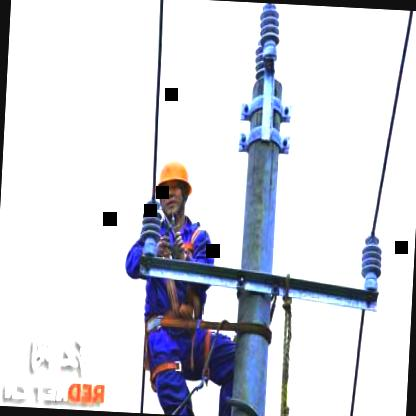helmet: (152, 152, 195, 224)
